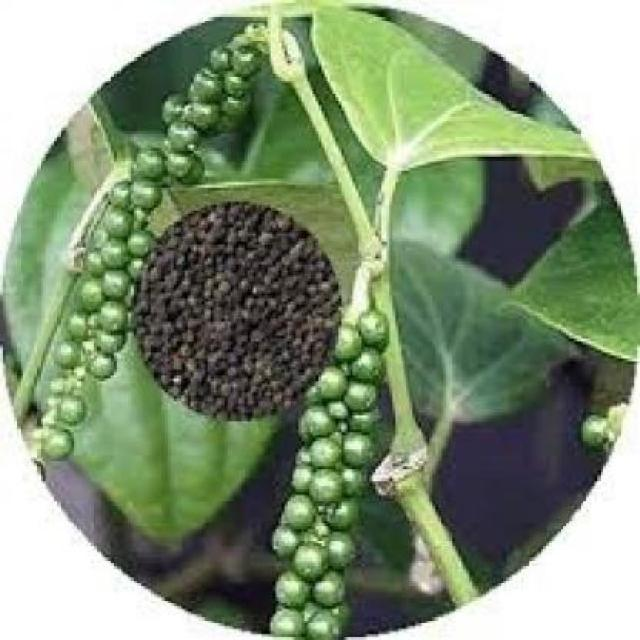UNRIPE: (17, 143, 134, 448), (265, 351, 376, 637)
